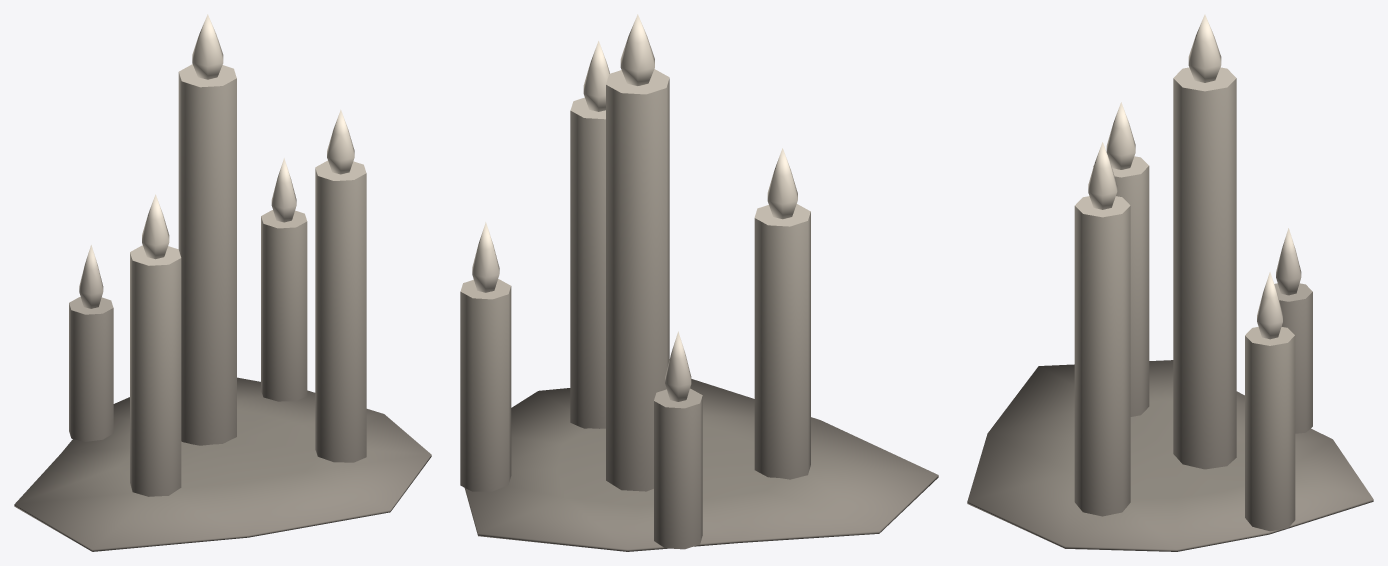
File: SM_VKI_Prop_Candles_Floor.fbx
3 renders of one model, left to right at view 1: azimuth 30°, elevation 25°; view 2: azimuth 150°, elevation 25°; view 3: azimuth 270°, elevation 25°, orthographic. The views are drawn at different scales.
Visible parts, largest first — view 1: SM_VKI_Prop_Candles_Floor.001; view 2: SM_VKI_Prop_Candles_Floor.001; view 3: SM_VKI_Prop_Candles_Floor.001.
Boxes of the visible parts, x1,y1,x2,y2 form: SM_VKI_Prop_Candles_Floor.001: (14, 14, 431, 551); SM_VKI_Prop_Candles_Floor.001: (460, 14, 938, 551); SM_VKI_Prop_Candles_Floor.001: (967, 14, 1373, 551).
Bounding box in the file's own units: 0.4823 × 0.539 × 0.4368.
